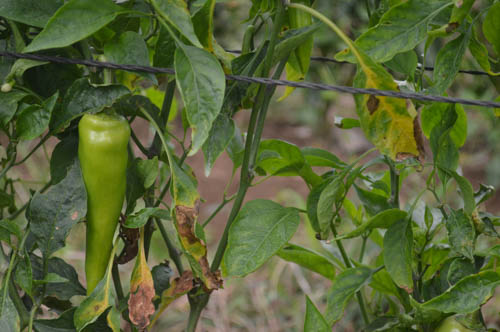ChiliPepper: (77, 115, 131, 292)
